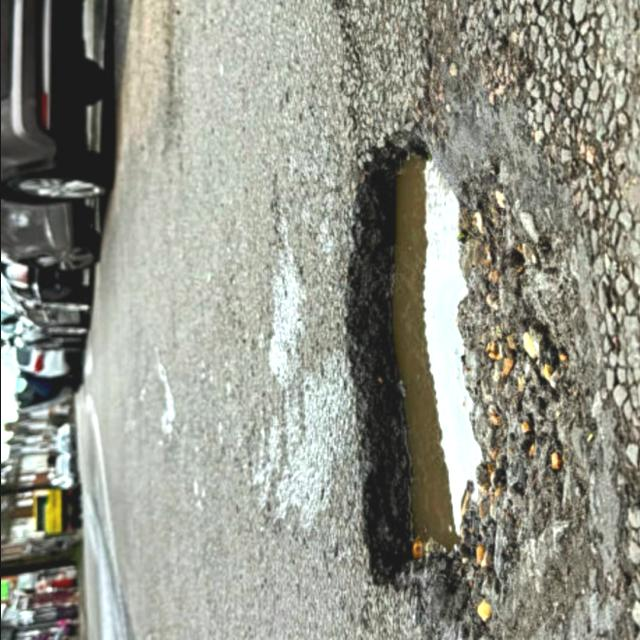pothole: (339, 93, 564, 640)
